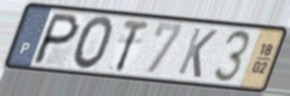3: (211, 28, 252, 85)
7: (145, 21, 188, 78)
K: (175, 26, 220, 81)
O: (70, 14, 115, 73)
P: (30, 11, 83, 67)
T: (113, 18, 152, 74)
